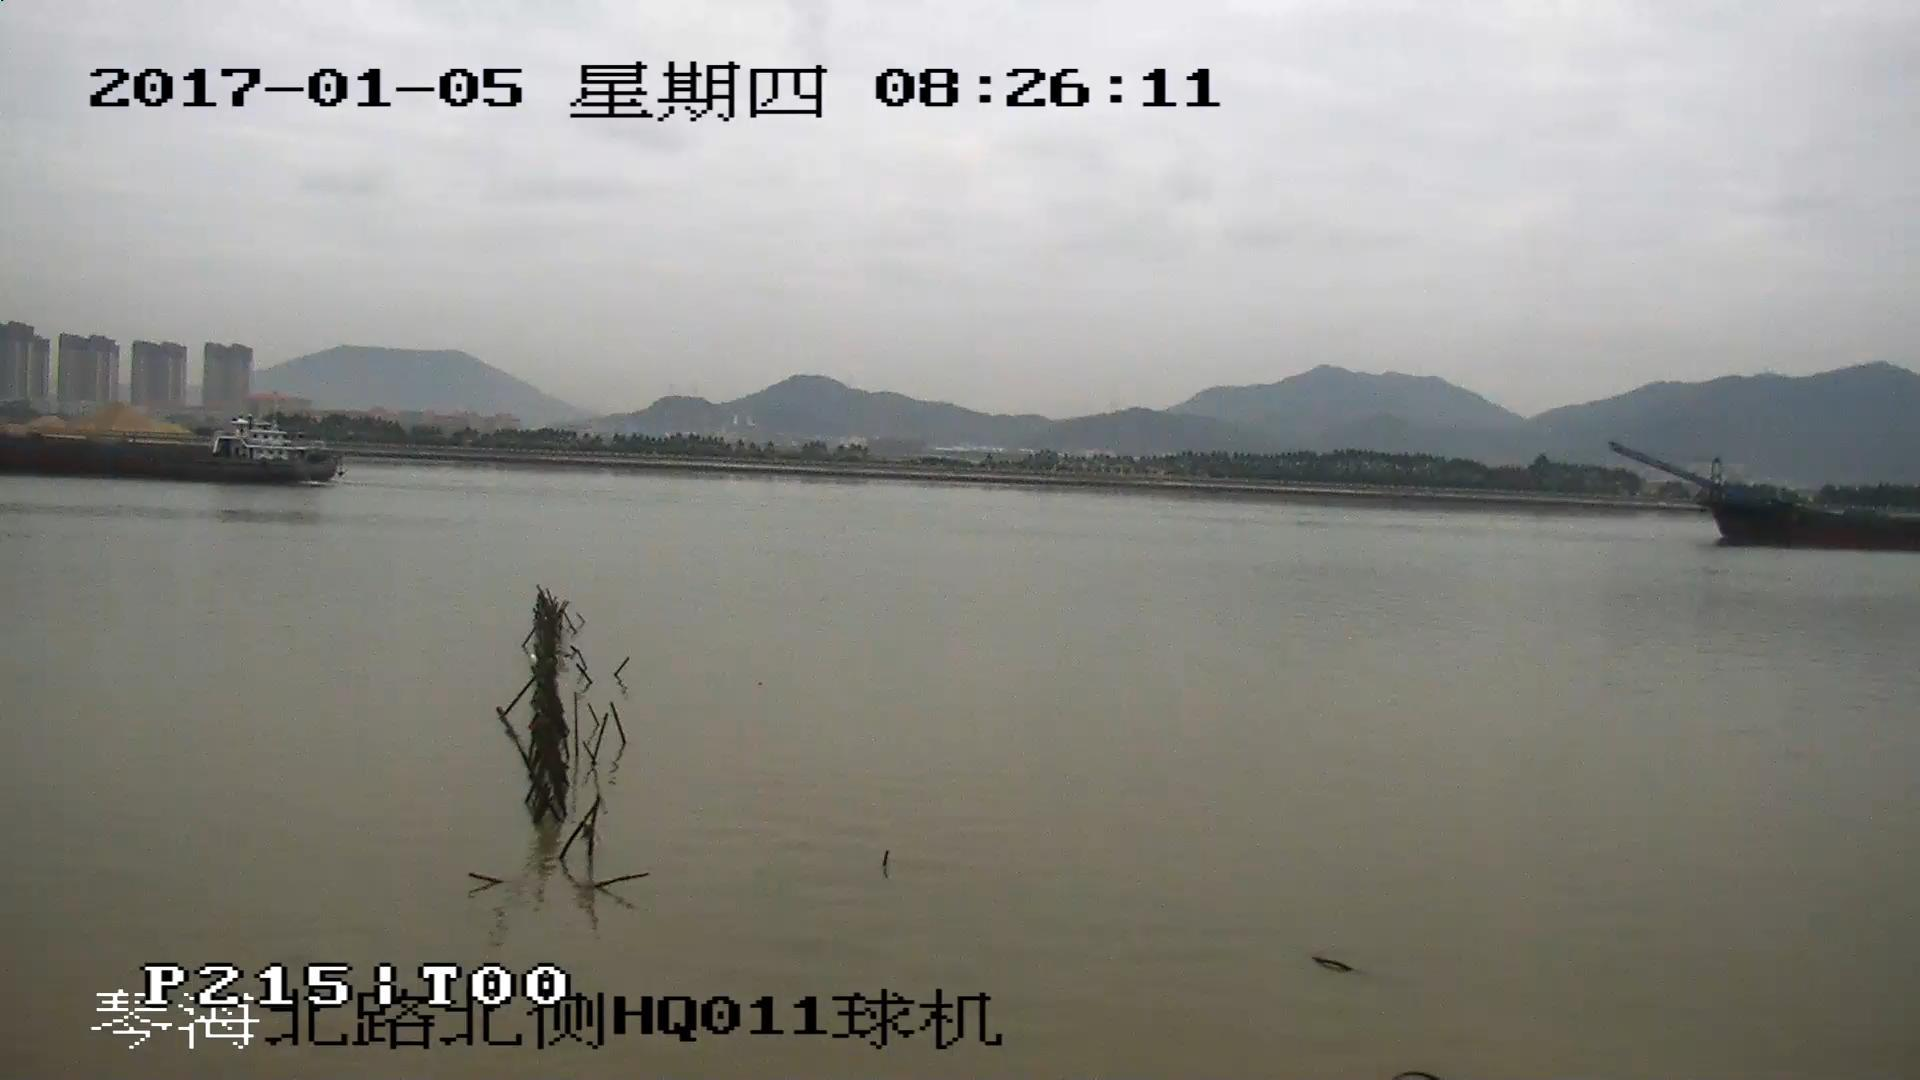Ship: (1611, 443, 1920, 553), (3, 421, 345, 483)
